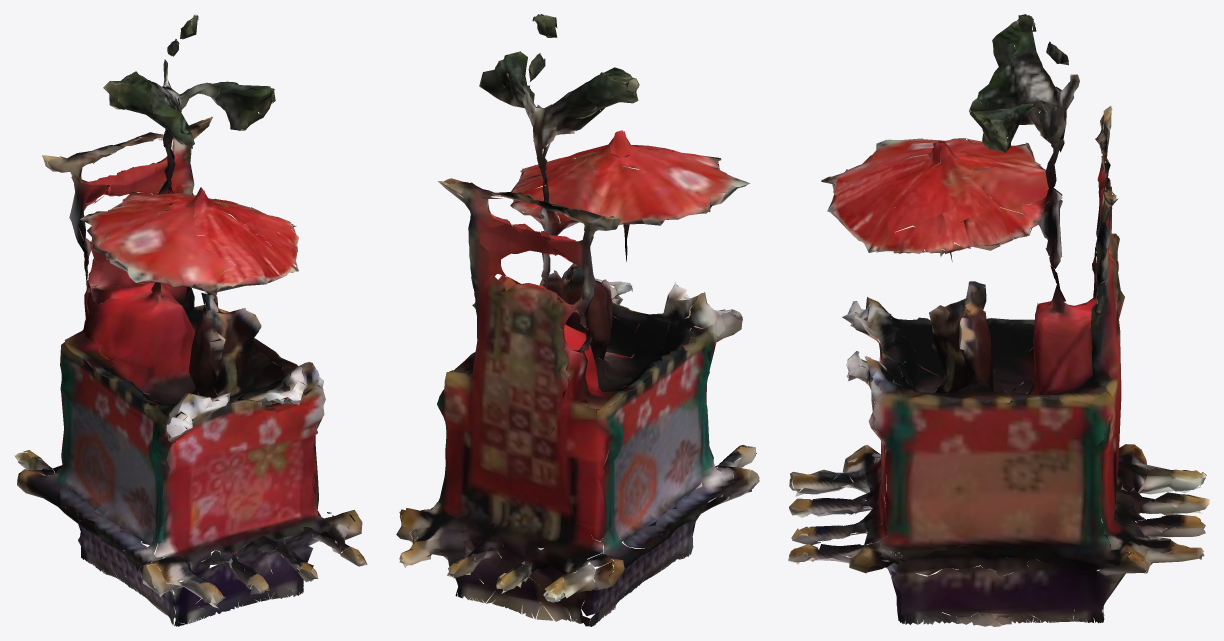
Rendered from 木賊山.glb.
3 renders of one model, left to right at view 1: azimuth 30°, elevation 25°; view 2: azimuth 150°, elevation 25°; view 3: azimuth 270°, elevation 25°, orthographic. The views are drawn at different scales.
Parts seen in each view (by area): view 1: mesh; view 2: mesh; view 3: mesh.
Boxes of the visible parts, x1=… form: mesh: x1=14, y1=14, x2=367, y2=626; mesh: x1=396, y1=14, x2=759, y2=626; mesh: x1=788, y1=14, x2=1209, y2=626.
Bounding box in the file's own units: 3.6 × 8.48 × 5.55.
Materials: 1 (1 with a texture image).
